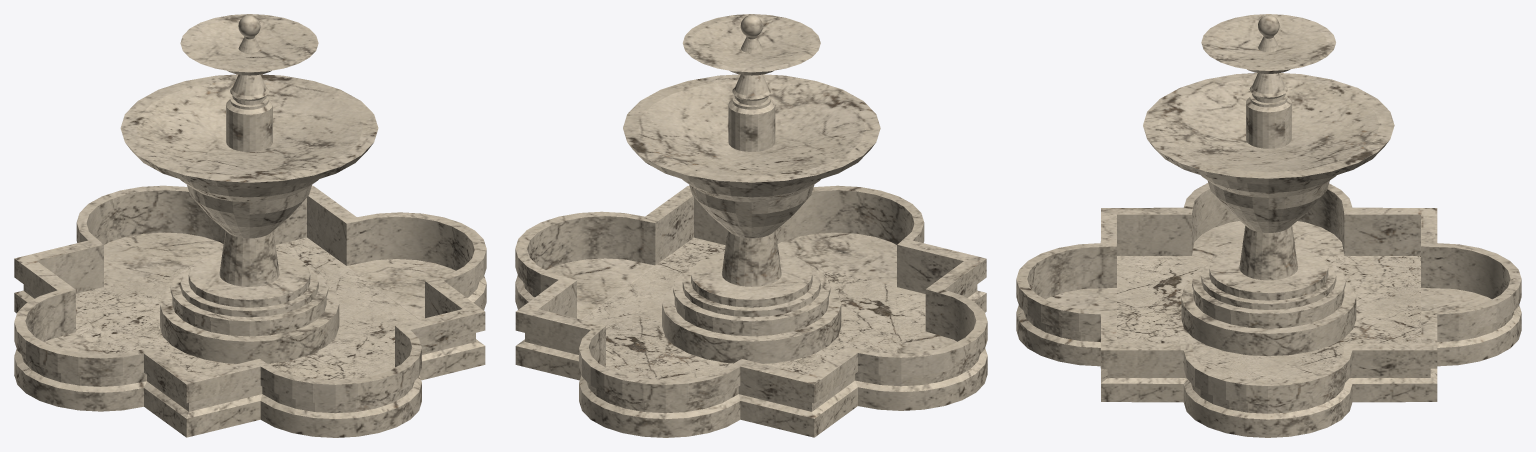
The model's file is foutain_low.glb.
3 renders of one model, left to right at view 1: azimuth 30°, elevation 25°; view 2: azimuth 150°, elevation 25°; view 3: azimuth 270°, elevation 25°, orthographic. The views are drawn at different scales.
Visible parts, largest first — view 1: fountain_low; view 2: fountain_low; view 3: fountain_low.
Part boxes in pixels (left/top/right/bottom): fountain_low: left=14, top=14, right=486, bottom=437; fountain_low: left=515, top=14, right=987, bottom=437; fountain_low: left=1016, top=14, right=1521, bottom=437.
Bounding box in the file's own units: 181 × 124 × 180.
1 material, 1 textured.
